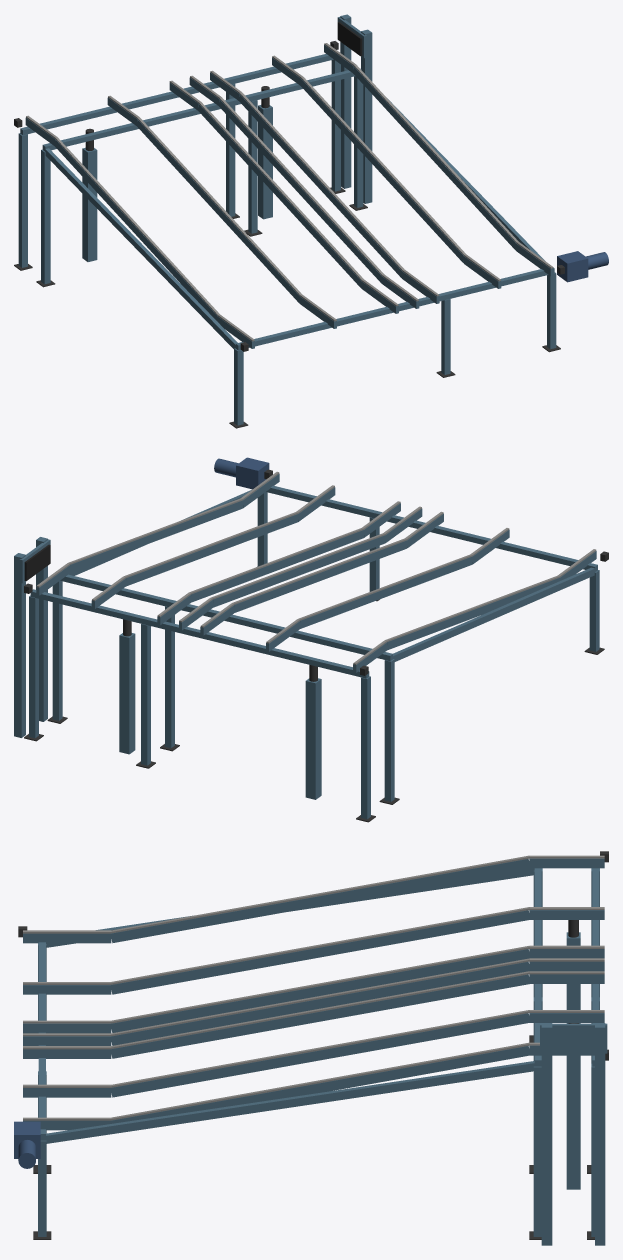
Rendered from board_landing_frame.glb.
3 renders of one model, top to bottom at view 1: azimuth 30°, elevation 25°; view 2: azimuth 150°, elevation 25°; view 3: azimuth 270°, elevation 25°, orthographic. The views are drawn at different scales.
Visible parts, largest first — view 1: LT_FrameMesh; view 2: LT_FrameMesh; view 3: LT_FrameMesh.
Part boxes in pixels (x1,y1,x2,y2): LT_FrameMesh: (14,14,608,428); LT_FrameMesh: (14,457,608,822); LT_FrameMesh: (14,851,608,1245).
Bounding box in the file's own units: 6.14 × 2.72 × 6.72.
